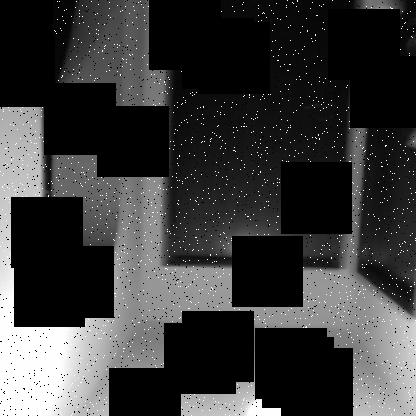Porte: (158, 1, 358, 273)
